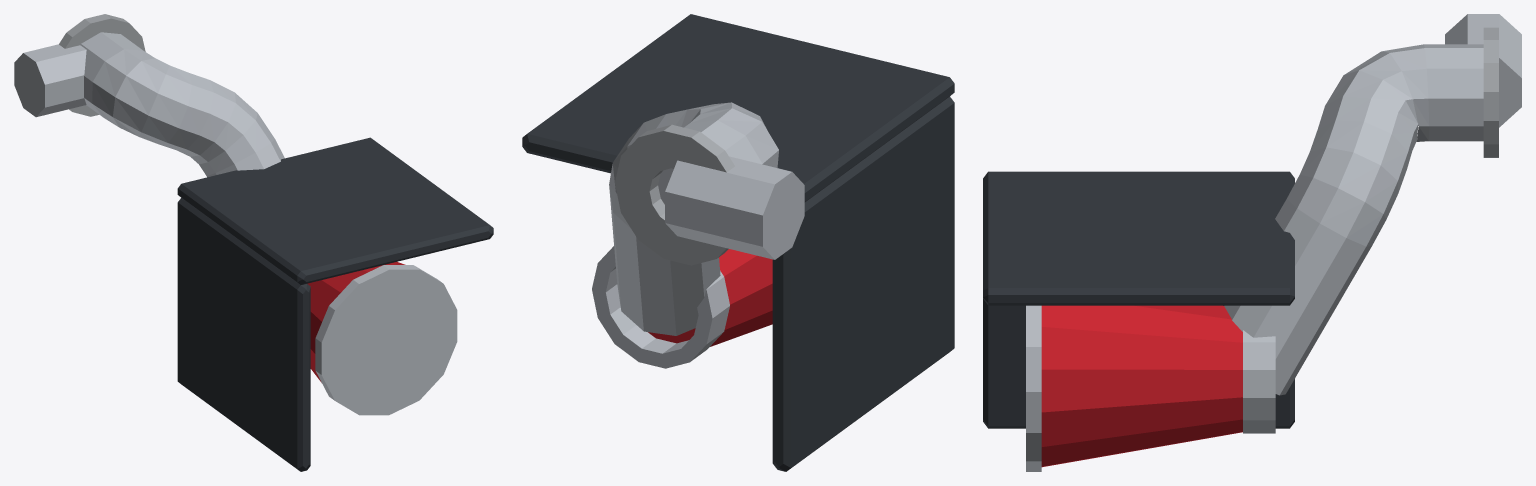
Rendered from vortex_r.glb.
3 renders of one model, left to right at view 1: azimuth 30°, elevation 25°; view 2: azimuth 150°, elevation 25°; view 3: azimuth 270°, elevation 25°, orthographic. The views are drawn at different scales.
Parts seen in each view (by area): view 1: model; view 2: model; view 3: model.
Part boxes in pixels (left/top/right/bottom): model: left=14, top=14, right=493, bottom=471; model: left=522, top=14, right=954, bottom=471; model: left=983, top=14, right=1521, bottom=471.
Bounding box in the file's own units: 0.3 × 0.33 × 0.4146.
2 materials, 1 textured.
